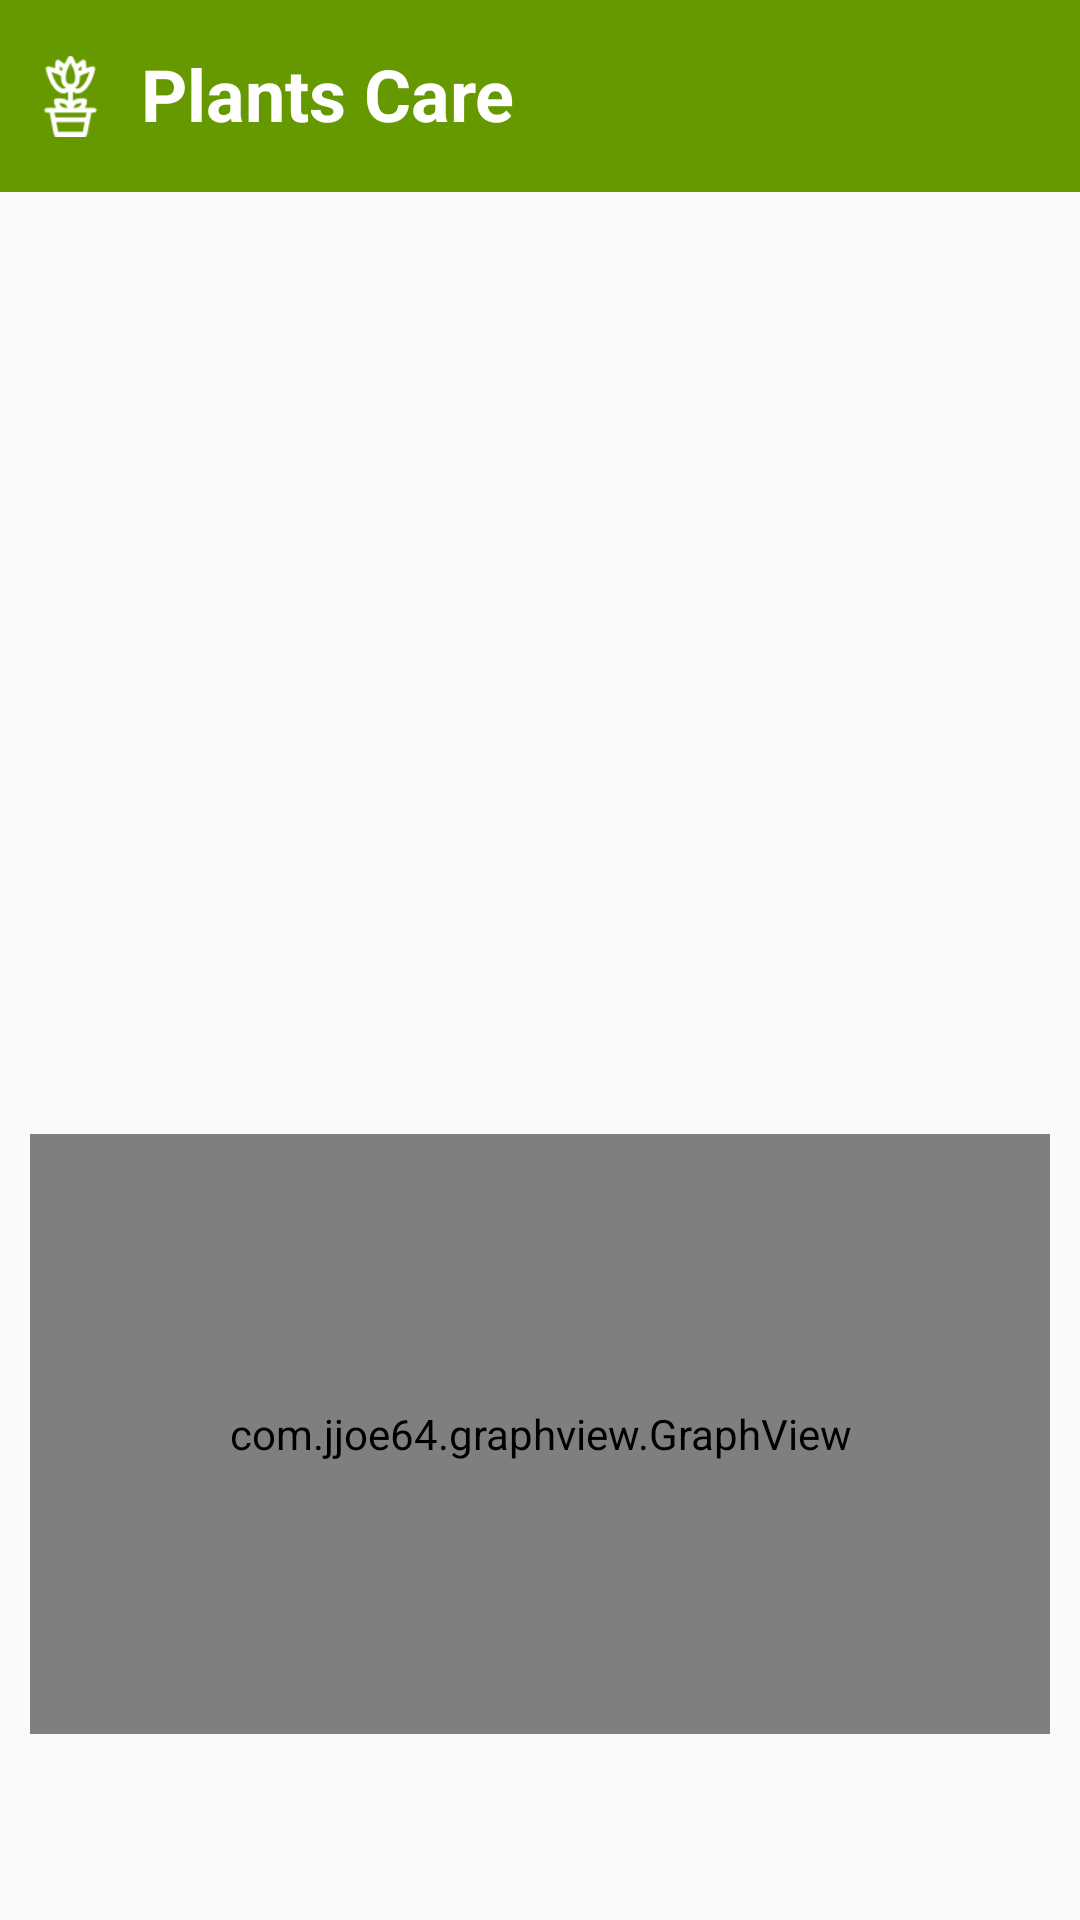

Where icons sit on this 1080w x 1920h app screen, as (x1, y1, x2, y2):
flower: (44, 56, 97, 137)
